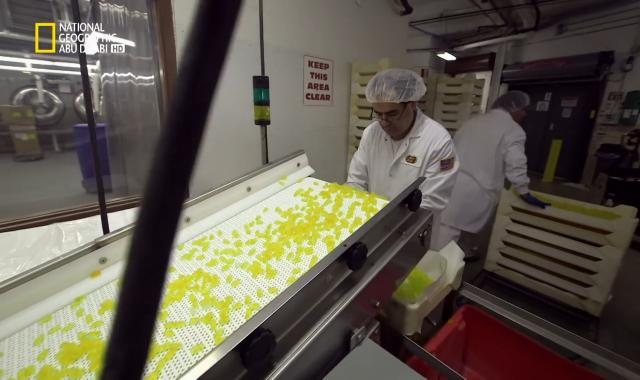hairnet: (366, 68, 428, 104), (492, 92, 536, 114)
